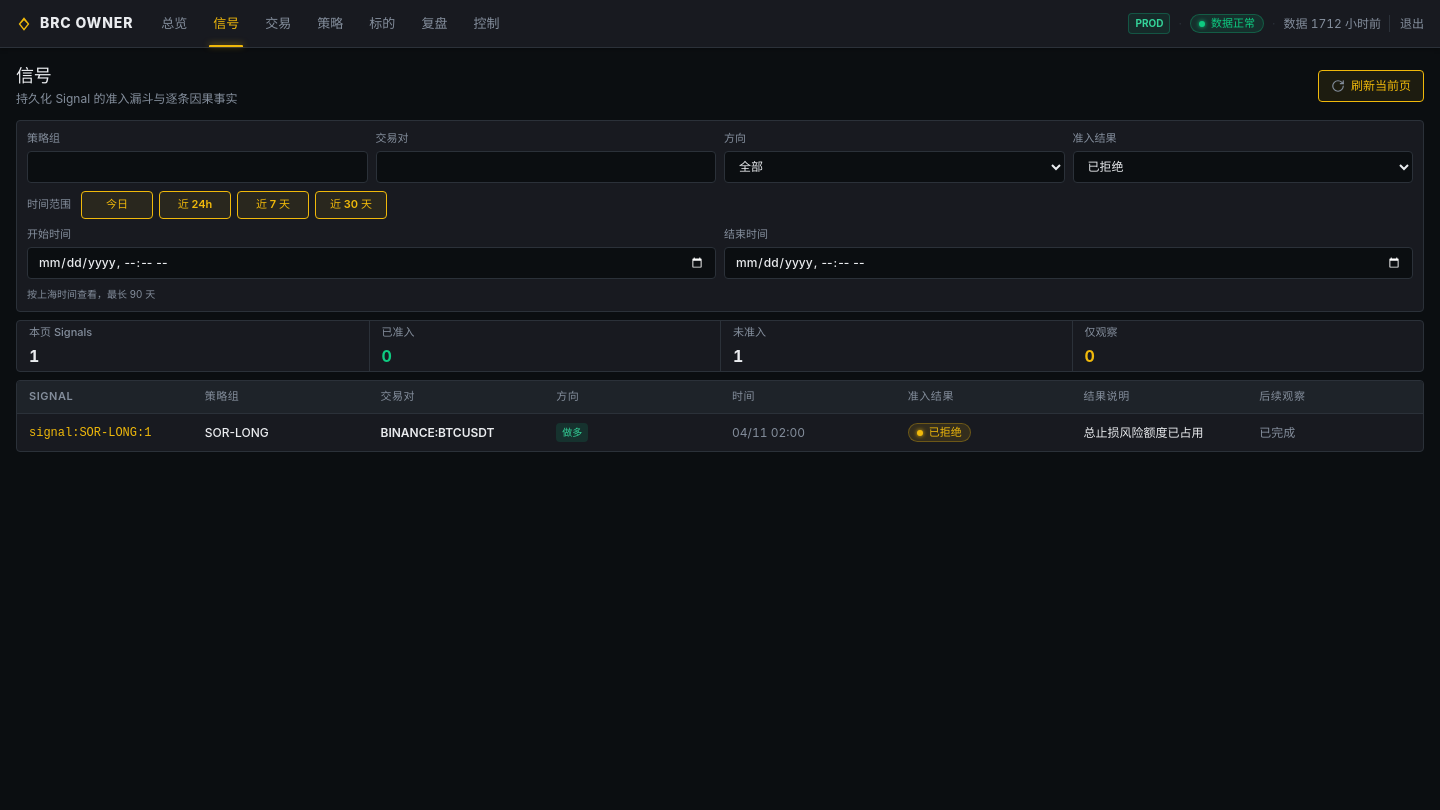
Test: opens rejected signal detail inline and does not render a right drawer
The image size is (1440, 810).
Click the button with aria-label "展开 SOR-LONG".
click(90, 434)  # box [29,425,151,442]
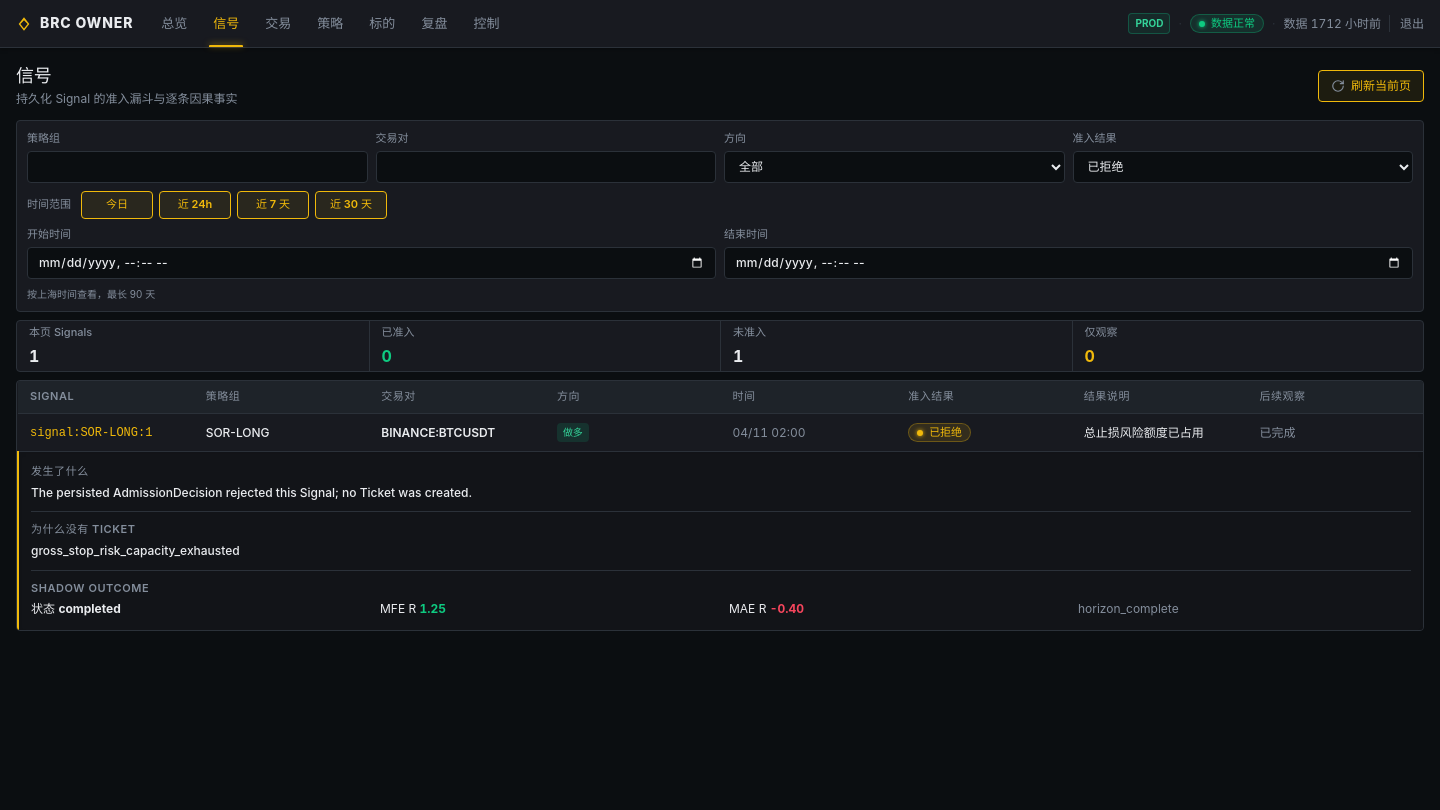
Check: the text "gross_stop_risk_capacity_exhausted" is shown, box [31,543,240,558]
Check: the heading "Shadow Outcome" is shown, box [31,580,149,594]
